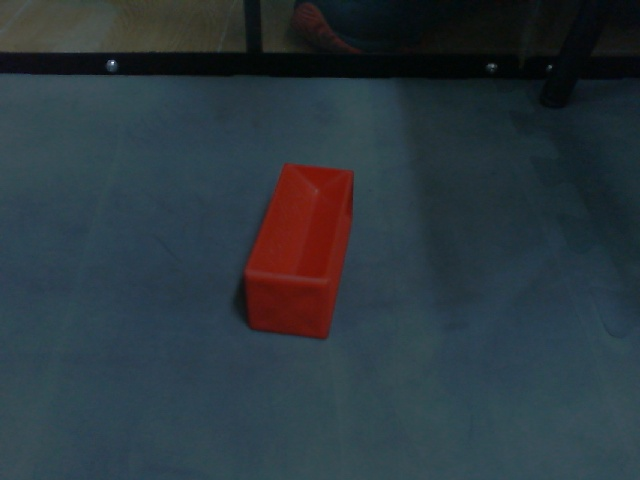RedSample: (241, 161, 356, 343)
